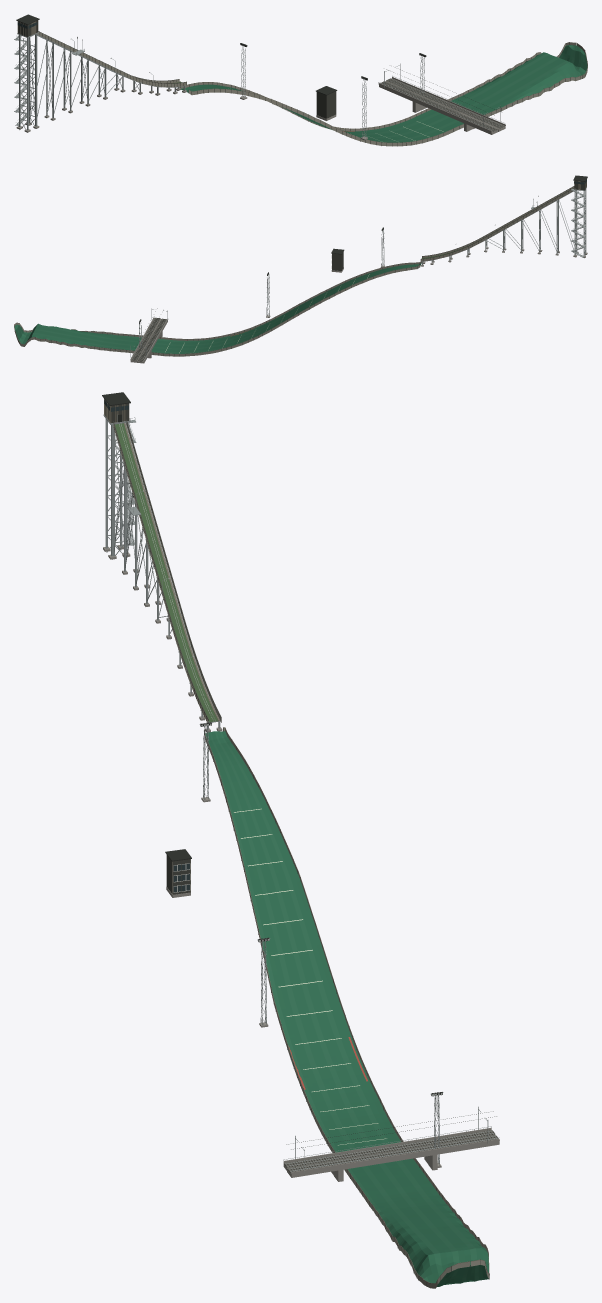
Rendered from paradiskullen-k90-v1.glb.
3 views of the same model, one above another, from view 1: azimuth 30°, elevation 25°; view 2: azimuth 150°, elevation 25°; view 3: azimuth 270°, elevation 25° (orthographic). The views are drawn at different scales.
Parts seen in each view (by area): view 1: paradiskullen-k90 landing, paradiskullen-k90 steel, paradiskullen-k90 timber_l, paradiskullen-k90 landing_, paradiskullen-k90 timber_d, paradiskullen-k90 granite, paradiskullen-k90 ballast, paradiskullen-k90 timber, paradiskullen-k90 rail, paradiskullen-k90 dark; view 2: paradiskullen-k90 landing, paradiskullen-k90 timber_l, paradiskullen-k90 landing_, paradiskullen-k90 steel, paradiskullen-k90 timber_d, paradiskullen-k90 timber, paradiskullen-k90 ballast, paradiskullen-k90 granite; view 3: paradiskullen-k90 landing, paradiskullen-k90 landing_, paradiskullen-k90 steel, paradiskullen-k90 timber_l, paradiskullen-k90 timber_d, paradiskullen-k90 track, paradiskullen-k90 granite, paradiskullen-k90 timber, paradiskullen-k90 ballast, paradiskullen-k90 rail.
Boxes of the visible parts, x1,y1,x2,y2 form: paradiskullen-k90 landing: [181, 45, 585, 142]; paradiskullen-k90 steel: [14, 32, 504, 138]; paradiskullen-k90 timber_l: [37, 31, 587, 146]; paradiskullen-k90 landing_: [181, 45, 587, 141]; paradiskullen-k90 timber_d: [18, 20, 587, 146]; paradiskullen-k90 granite: [16, 77, 505, 140]; paradiskullen-k90 ballast: [381, 78, 504, 131]; paradiskullen-k90 timber: [17, 20, 587, 142]; paradiskullen-k90 rail: [15, 34, 503, 130]; paradiskullen-k90 dark: [16, 14, 494, 115]; paradiskullen-k90 landing: [14, 263, 421, 353]; paradiskullen-k90 timber_l: [14, 186, 574, 356]; paradiskullen-k90 landing_: [14, 263, 421, 353]; paradiskullen-k90 steel: [130, 187, 586, 360]; paradiskullen-k90 timber_d: [21, 180, 586, 361]; paradiskullen-k90 timber: [14, 181, 586, 353]; paradiskullen-k90 ballast: [131, 318, 166, 361]; paradiskullen-k90 granite: [130, 247, 587, 363]; paradiskullen-k90 landing: [206, 731, 488, 1286]; paradiskullen-k90 landing_: [205, 731, 479, 1286]; paradiskullen-k90 steel: [103, 414, 499, 1172]; paradiskullen-k90 timber_l: [113, 423, 489, 1288]; paradiskullen-k90 timber_d: [108, 403, 498, 1288]; paradiskullen-k90 track: [115, 423, 218, 722]; paradiskullen-k90 granite: [103, 544, 499, 1181]; paradiskullen-k90 timber: [104, 399, 489, 1283]; paradiskullen-k90 ballast: [284, 1130, 497, 1173]; paradiskullen-k90 rail: [119, 417, 497, 1171].
Size of the model in its own units: 306 by 129 by 109.
